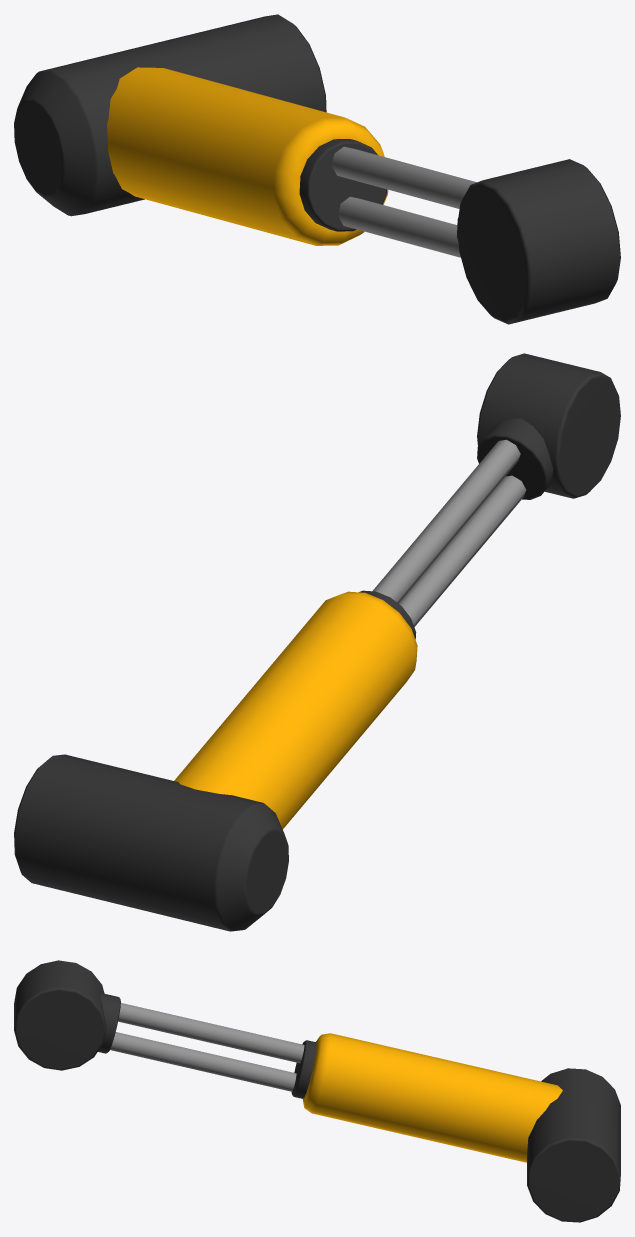
Rendered from obstacle_11_005.fbx.
The picture shows the model from 3 angles, top to bottom: view 1: azimuth 30°, elevation 25°; view 2: azimuth 150°, elevation 25°; view 3: azimuth 270°, elevation 25°; orthographic projection. The views are drawn at different scales.
Parts seen in each view (by area): view 1: obstacle_11_005; view 2: obstacle_11_005; view 3: obstacle_11_005.
Boxes of the visible parts, left/top/right/bottom form: obstacle_11_005: left=14, top=14, right=620, bottom=324; obstacle_11_005: left=14, top=353, right=620, bottom=931; obstacle_11_005: left=14, top=960, right=620, bottom=1222.
Bounding box in the file's own units: 201 × 668 × 243.
